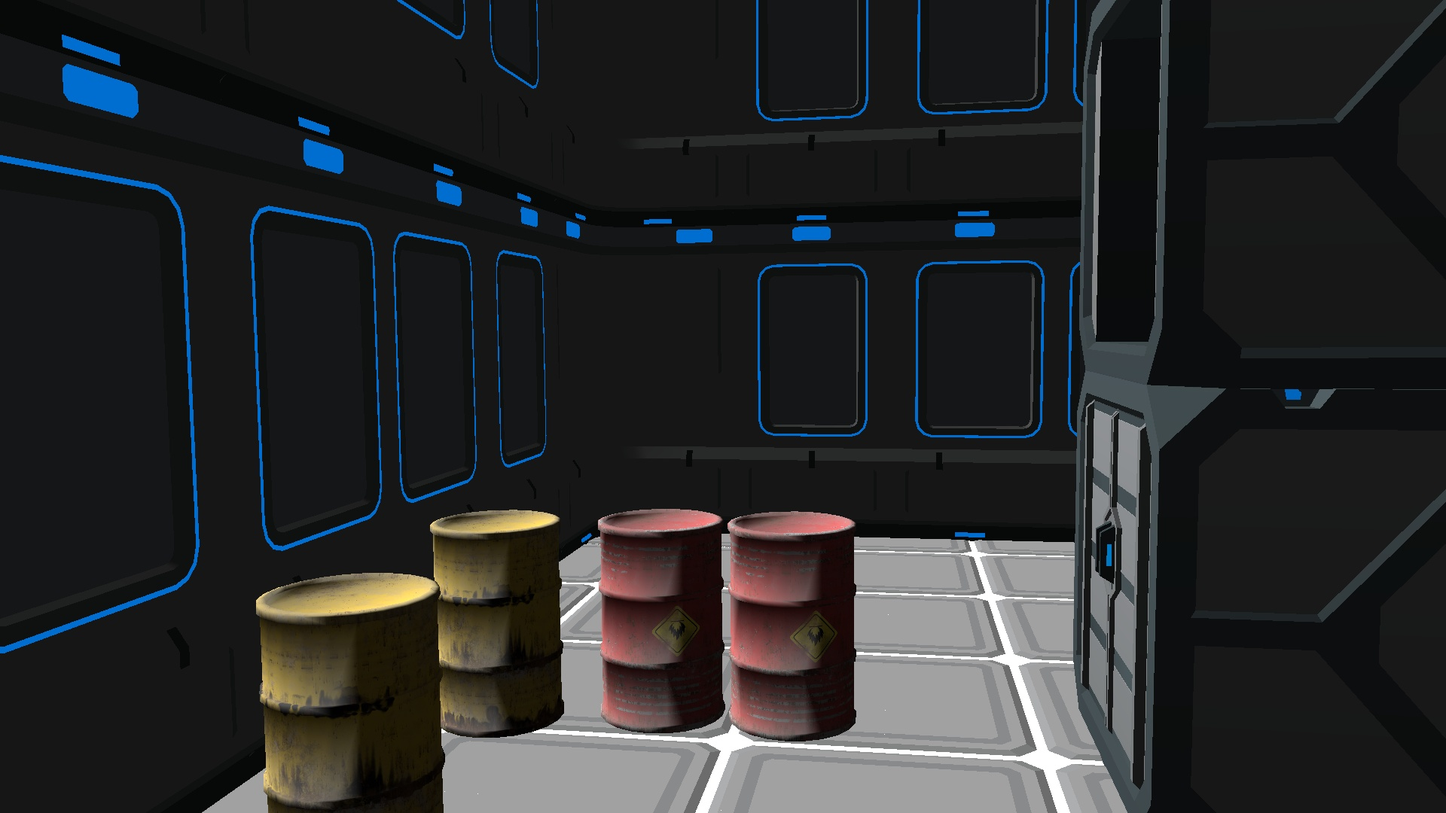toxic barrel: (255, 573, 446, 813), (430, 509, 564, 739), (727, 511, 857, 742), (597, 508, 725, 733)
